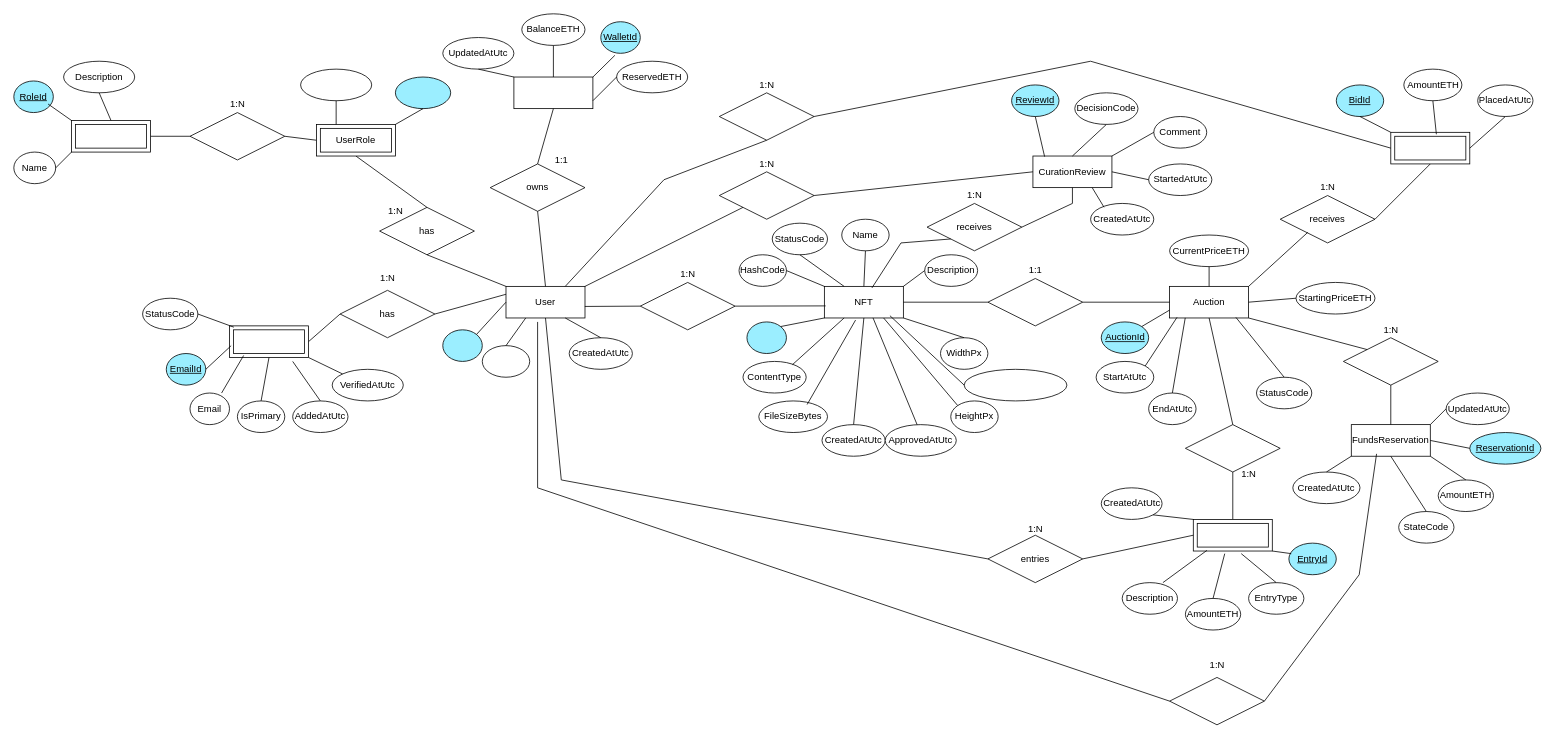
The diagram is 1555 pixels wide and 739 high, and some of its shapes have lost their labels. Here are the shapes that lost their labels. From the top down, the box of each, then its label:
(300, 68, 372, 101): AsignationUtc
(395, 76, 451, 109): UserRoleId
(513, 76, 593, 109): Wallet
(71, 120, 150, 152): Role
(189, 112, 285, 160): grants
(719, 92, 814, 140): places
(1390, 132, 1470, 164): Bid
(719, 171, 814, 219): performs
(640, 282, 735, 330): creates
(987, 278, 1083, 326): Listed in
(229, 325, 308, 357): UserEmail
(442, 329, 482, 361): UserId
(746, 321, 786, 354): NFTId
(482, 345, 530, 377): FullName
(1343, 337, 1438, 385): locks
(963, 369, 1067, 401): SuggestedPriceETH
(1185, 424, 1280, 472): posts
(1193, 519, 1272, 551): Ledger
(1169, 677, 1264, 725): holds
